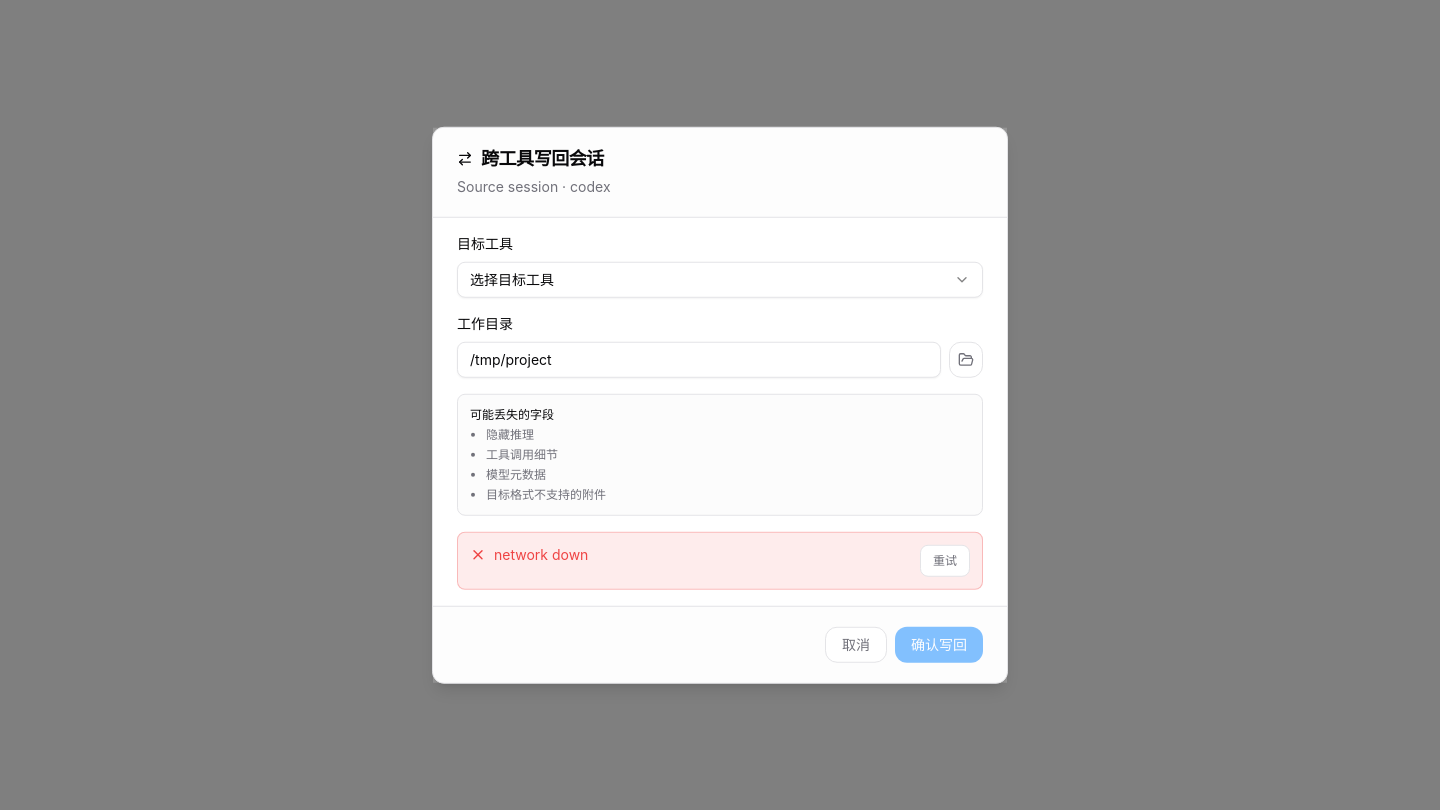
Test: SessionTransferDialog › offers retry when loading transfer targets fails
expect the message shows "network down": met, box [494,545,588,562]
Click the button "重试": (945, 560) [920,544,970,576]
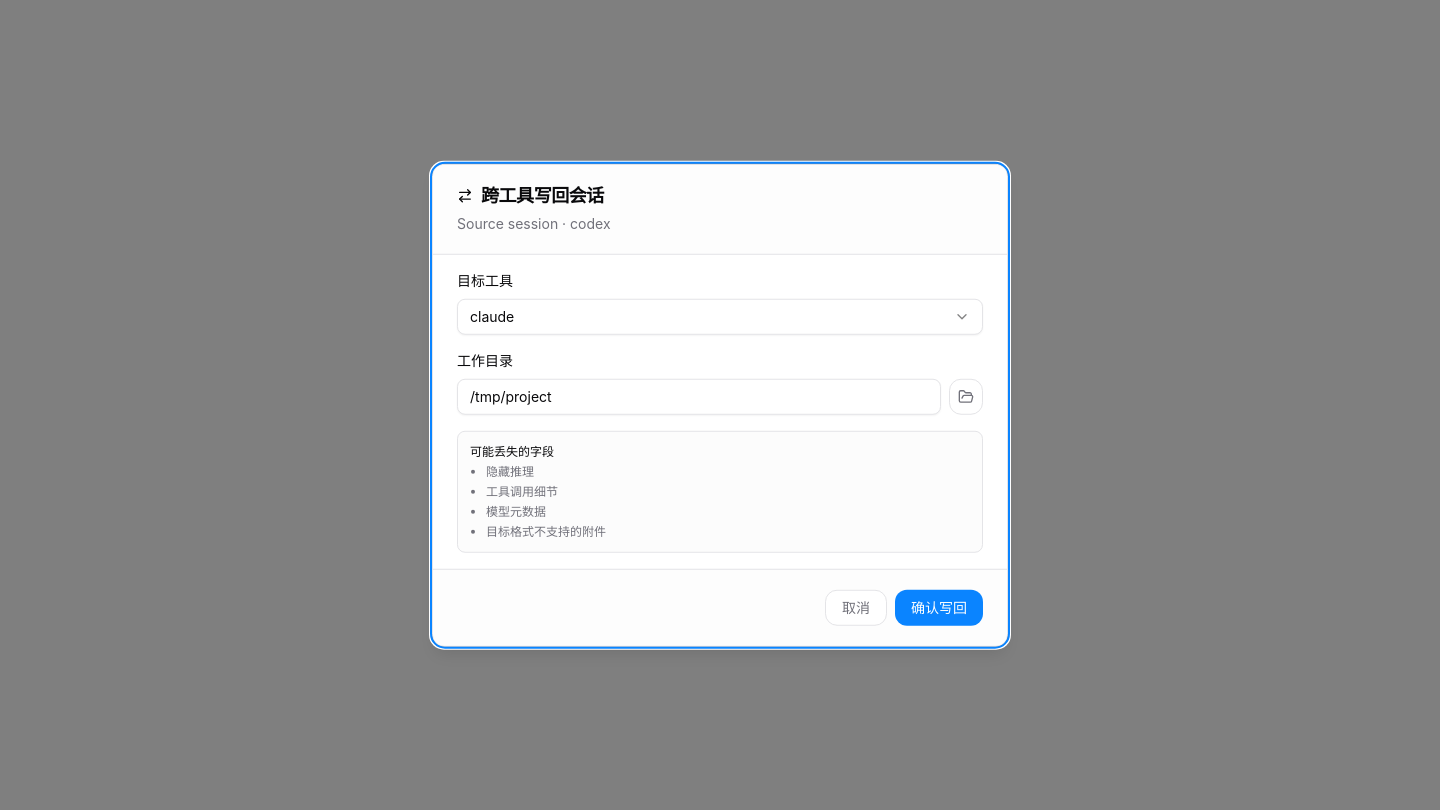
expect the text "claude" is shown: met, box [470,306,514,326]
